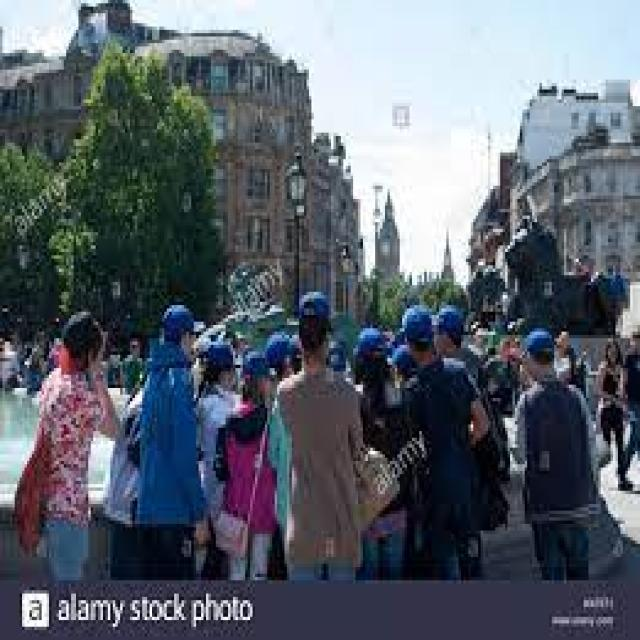cap: (152, 281, 211, 358), (51, 315, 110, 368), (419, 298, 483, 338), (515, 318, 569, 362), (258, 318, 294, 382), (353, 322, 392, 381), (400, 292, 439, 348), (292, 285, 333, 338), (194, 332, 240, 378)
